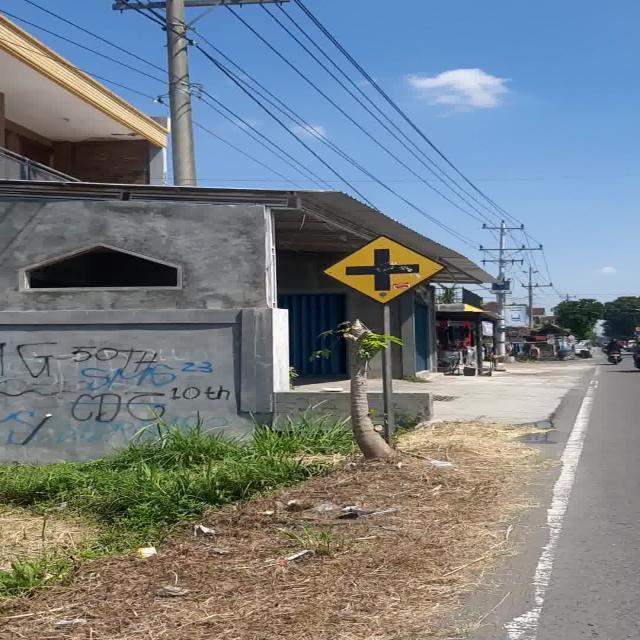Persimpangan 4: (322, 234, 447, 305)
